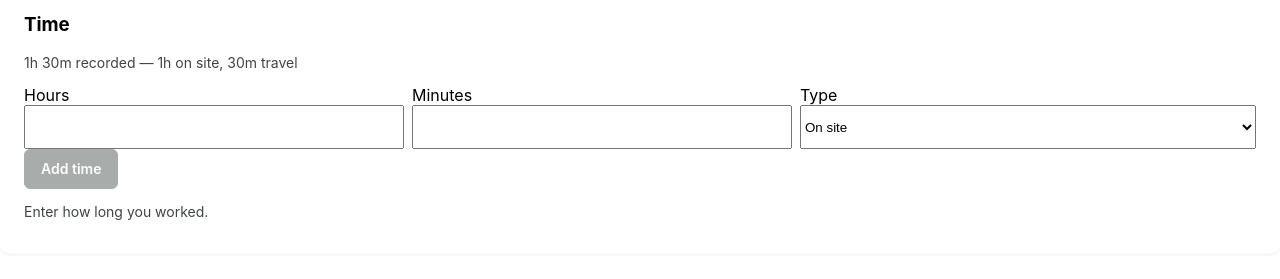
Test: recording time › a refusal is shown in words a technician can act on
Check: the button "Add time" is shown, box [24, 149, 118, 189]
Type "1" into the number field labelled "Hours" at (214, 127), box [24, 105, 404, 149]
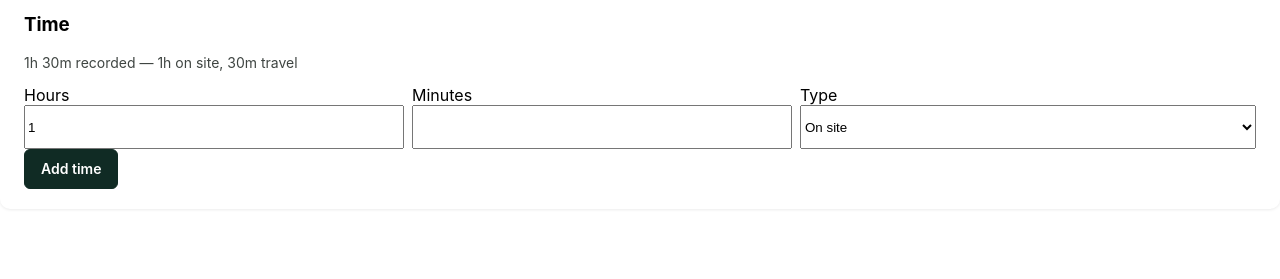
Type "0" into the number field labelled "Minutes" at (602, 127), box [412, 105, 792, 149]
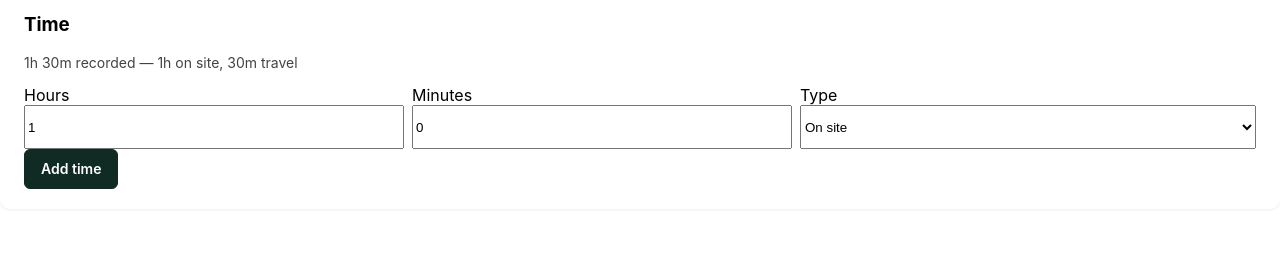
Click the button "Add time" at (71, 169), box [24, 149, 118, 189]
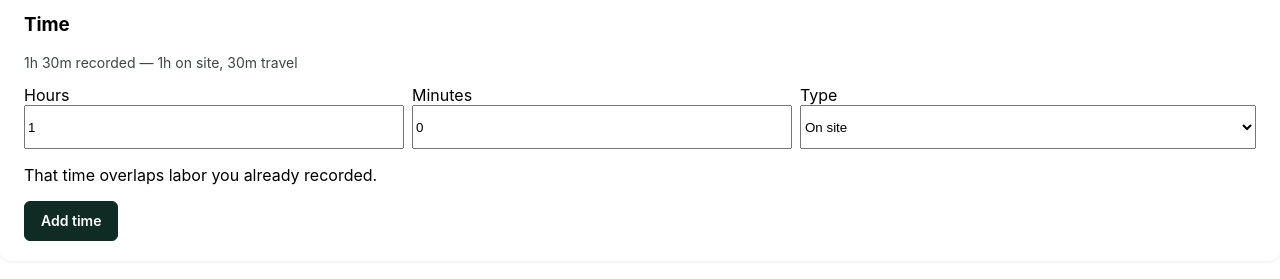
Check: the text "That time overlaps labor you already recorded." is shown, box [24, 165, 377, 185]
